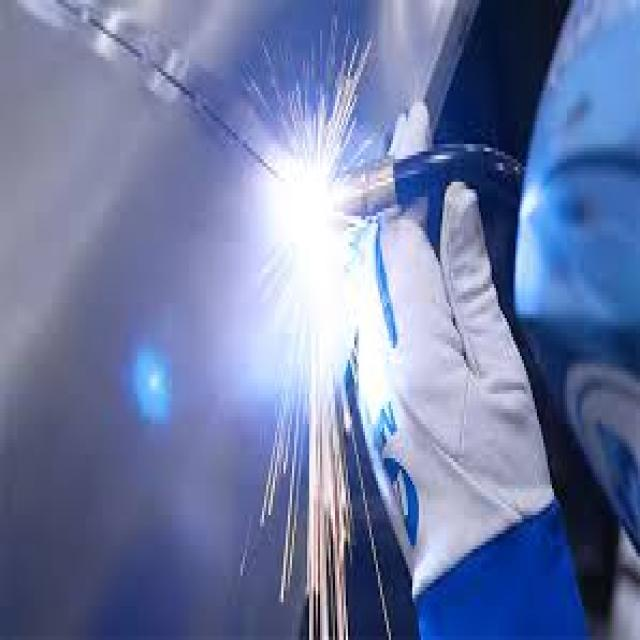welding: (285, 146, 355, 312)
